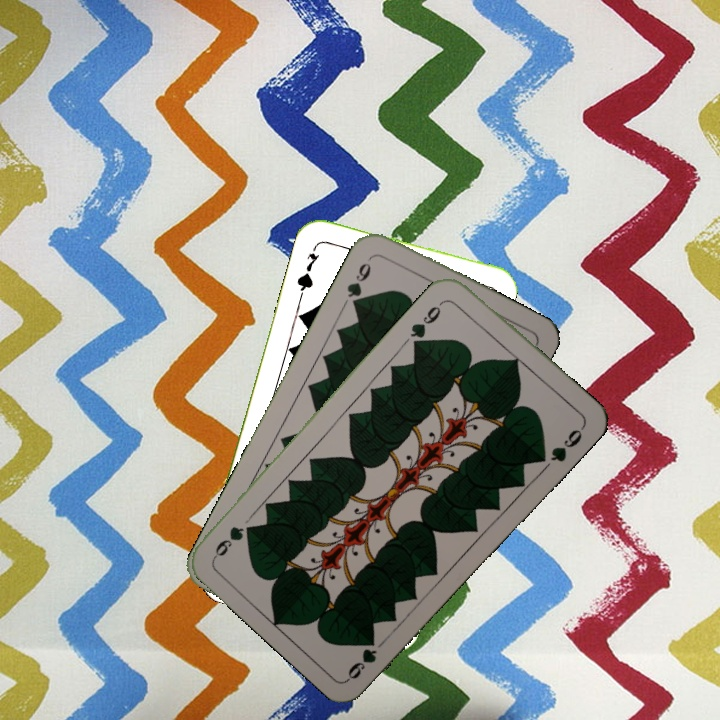G7: (293, 248, 321, 297)
G9: (406, 296, 448, 347), (343, 634, 380, 682), (342, 258, 374, 311)
